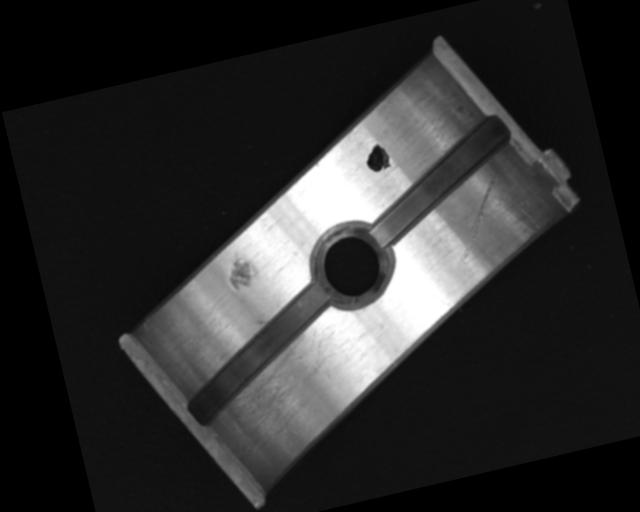blot: (362, 141, 393, 175)
bruise: (222, 248, 258, 293)
gap: (167, 278, 350, 428), (351, 112, 526, 247)
hole: (307, 216, 398, 316)
nick: (442, 175, 512, 266)
scratch: (210, 325, 356, 453)
